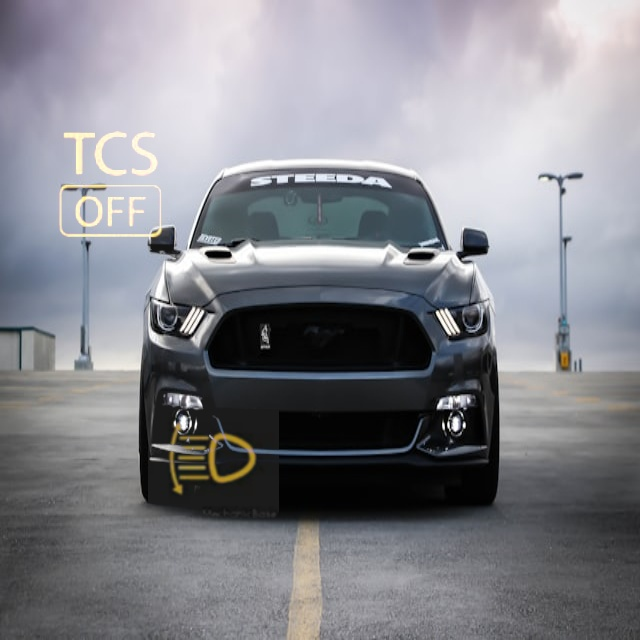symbol: (28, 102, 197, 271), (148, 391, 279, 522)
